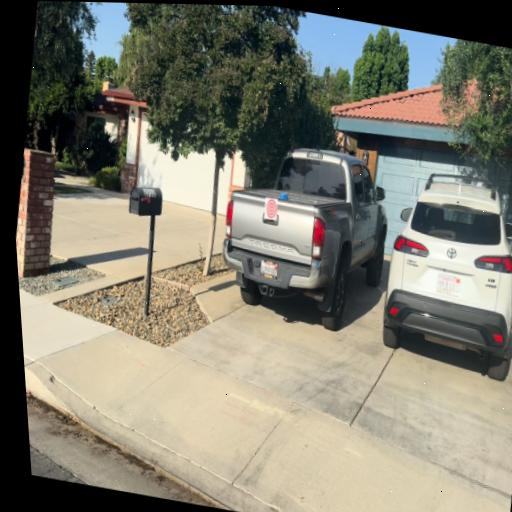bullseye: (264, 197, 277, 220)
